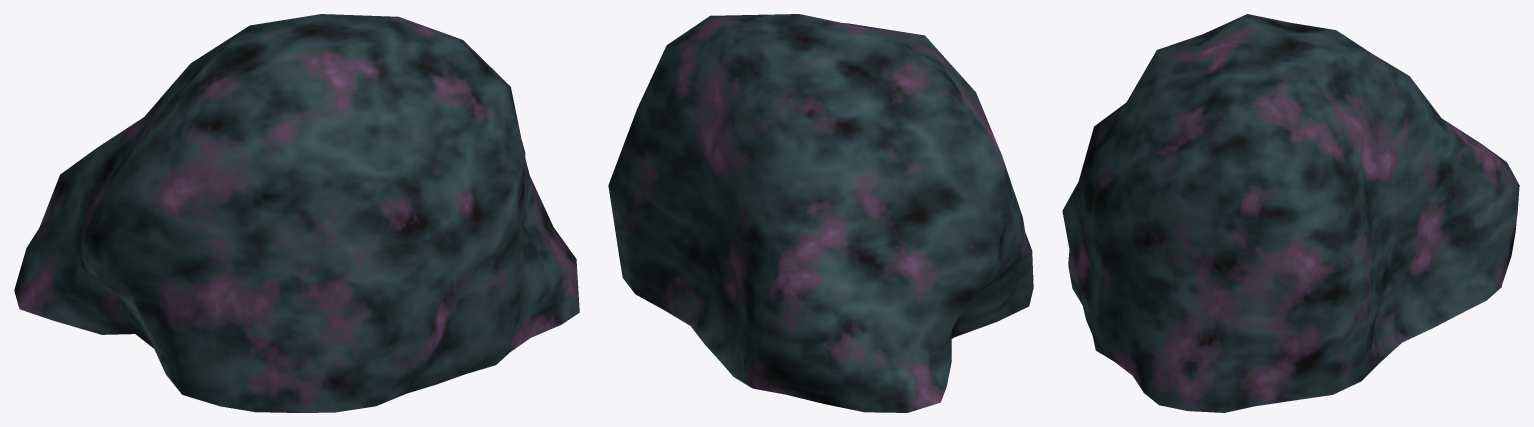
Rendered from CA_073_stone_var1.glb.
3 views of the same model, side by side, from view 1: azimuth 30°, elevation 25°; view 2: azimuth 150°, elevation 25°; view 3: azimuth 270°, elevation 25° (orthographic). The views are drawn at different scales.
Parts seen in each view (by area): view 1: stone; view 2: stone; view 3: stone.
Boxes of the visible parts, box(x1,y1,x2,y2) form: stone: box(14, 14, 579, 412); stone: box(608, 14, 1033, 412); stone: box(1062, 14, 1519, 412).
Bounding box in the file's own units: 1.2 × 0.7417 × 1.14.
1 material, 1 textured.
